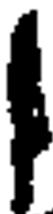Reed: (2, 11, 49, 211)
